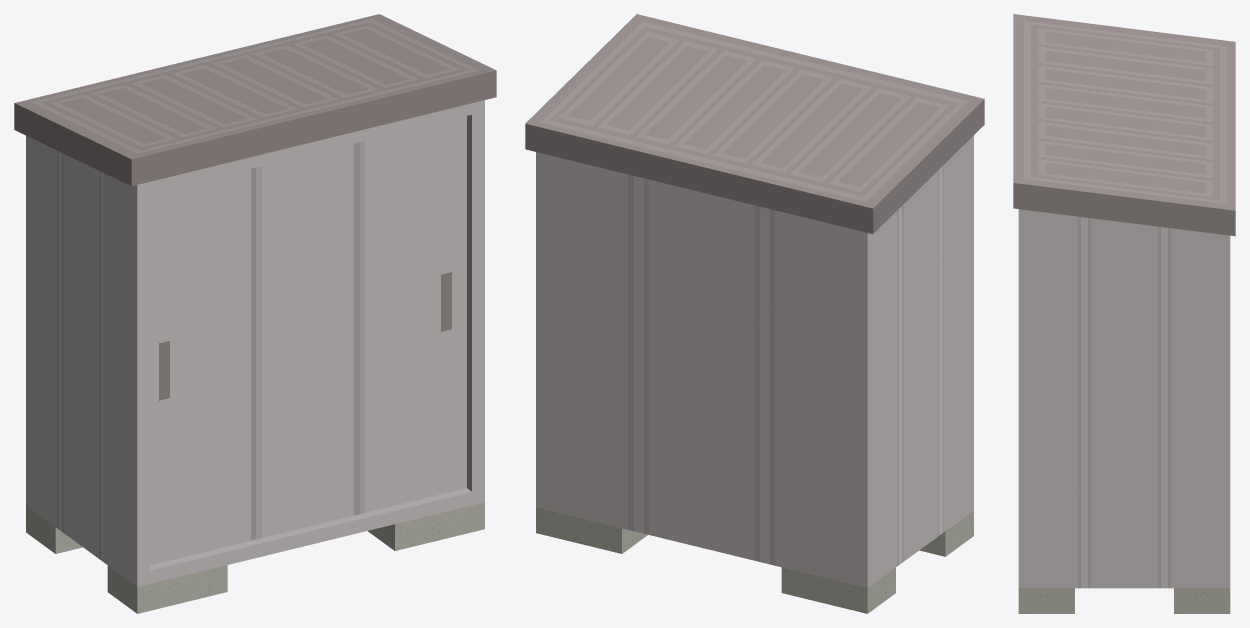
The model's file is 009d_Storage_Shed.glb.
The picture shows the model from 3 angles, left to right: view 1: azimuth 30°, elevation 25°; view 2: azimuth 150°, elevation 25°; view 3: azimuth 270°, elevation 25°; orthographic projection. The views are drawn at different scales.
Parts seen in each view (by area): view 1: part_0; view 2: part_0; view 3: part_0.
Part boxes in pixels (x1,y1,x2,y2): part_0: (14,14,496,613); part_0: (525,14,984,613); part_0: (1013,14,1235,613).
Bounding box in the file's own units: 1.42 × 1.7 × 0.7875.
1 material, 1 textured.
